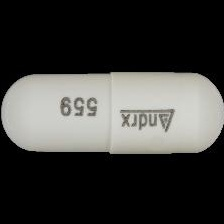62037-559: (0, 0, 224, 224)
